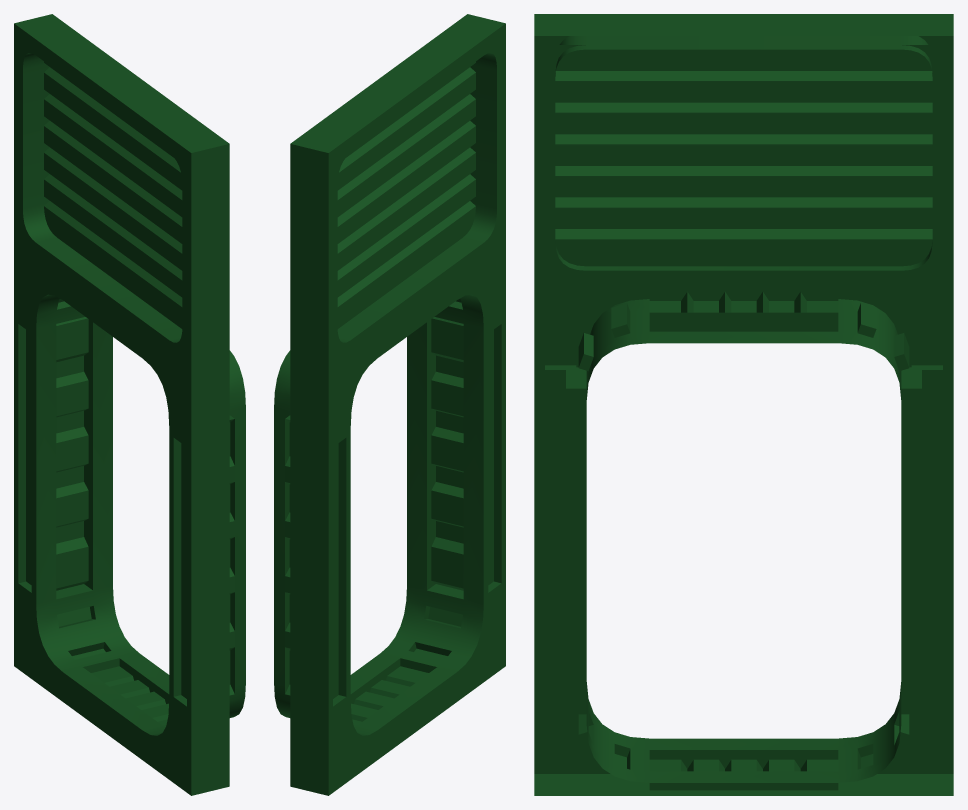
Rendered from Wall_B_4x2m_DoorA.FBX.
3 views of the same model, side by side, from view 1: azimuth 30°, elevation 25°; view 2: azimuth 150°, elevation 25°; view 3: azimuth 270°, elevation 25° (orthographic). The views are drawn at different scales.
Visible parts, largest first — view 1: Wall_B_4x2m_DoorA; view 2: Wall_B_4x2m_DoorA; view 3: Wall_B_4x2m_DoorA.
Boxes of the visible parts, <box> form: Wall_B_4x2m_DoorA: <box>14,14,245,795</box>; Wall_B_4x2m_DoorA: <box>274,14,505,795</box>; Wall_B_4x2m_DoorA: <box>534,14,953,795</box>.
Size of the model in its own units: 50 by 400 by 200.
